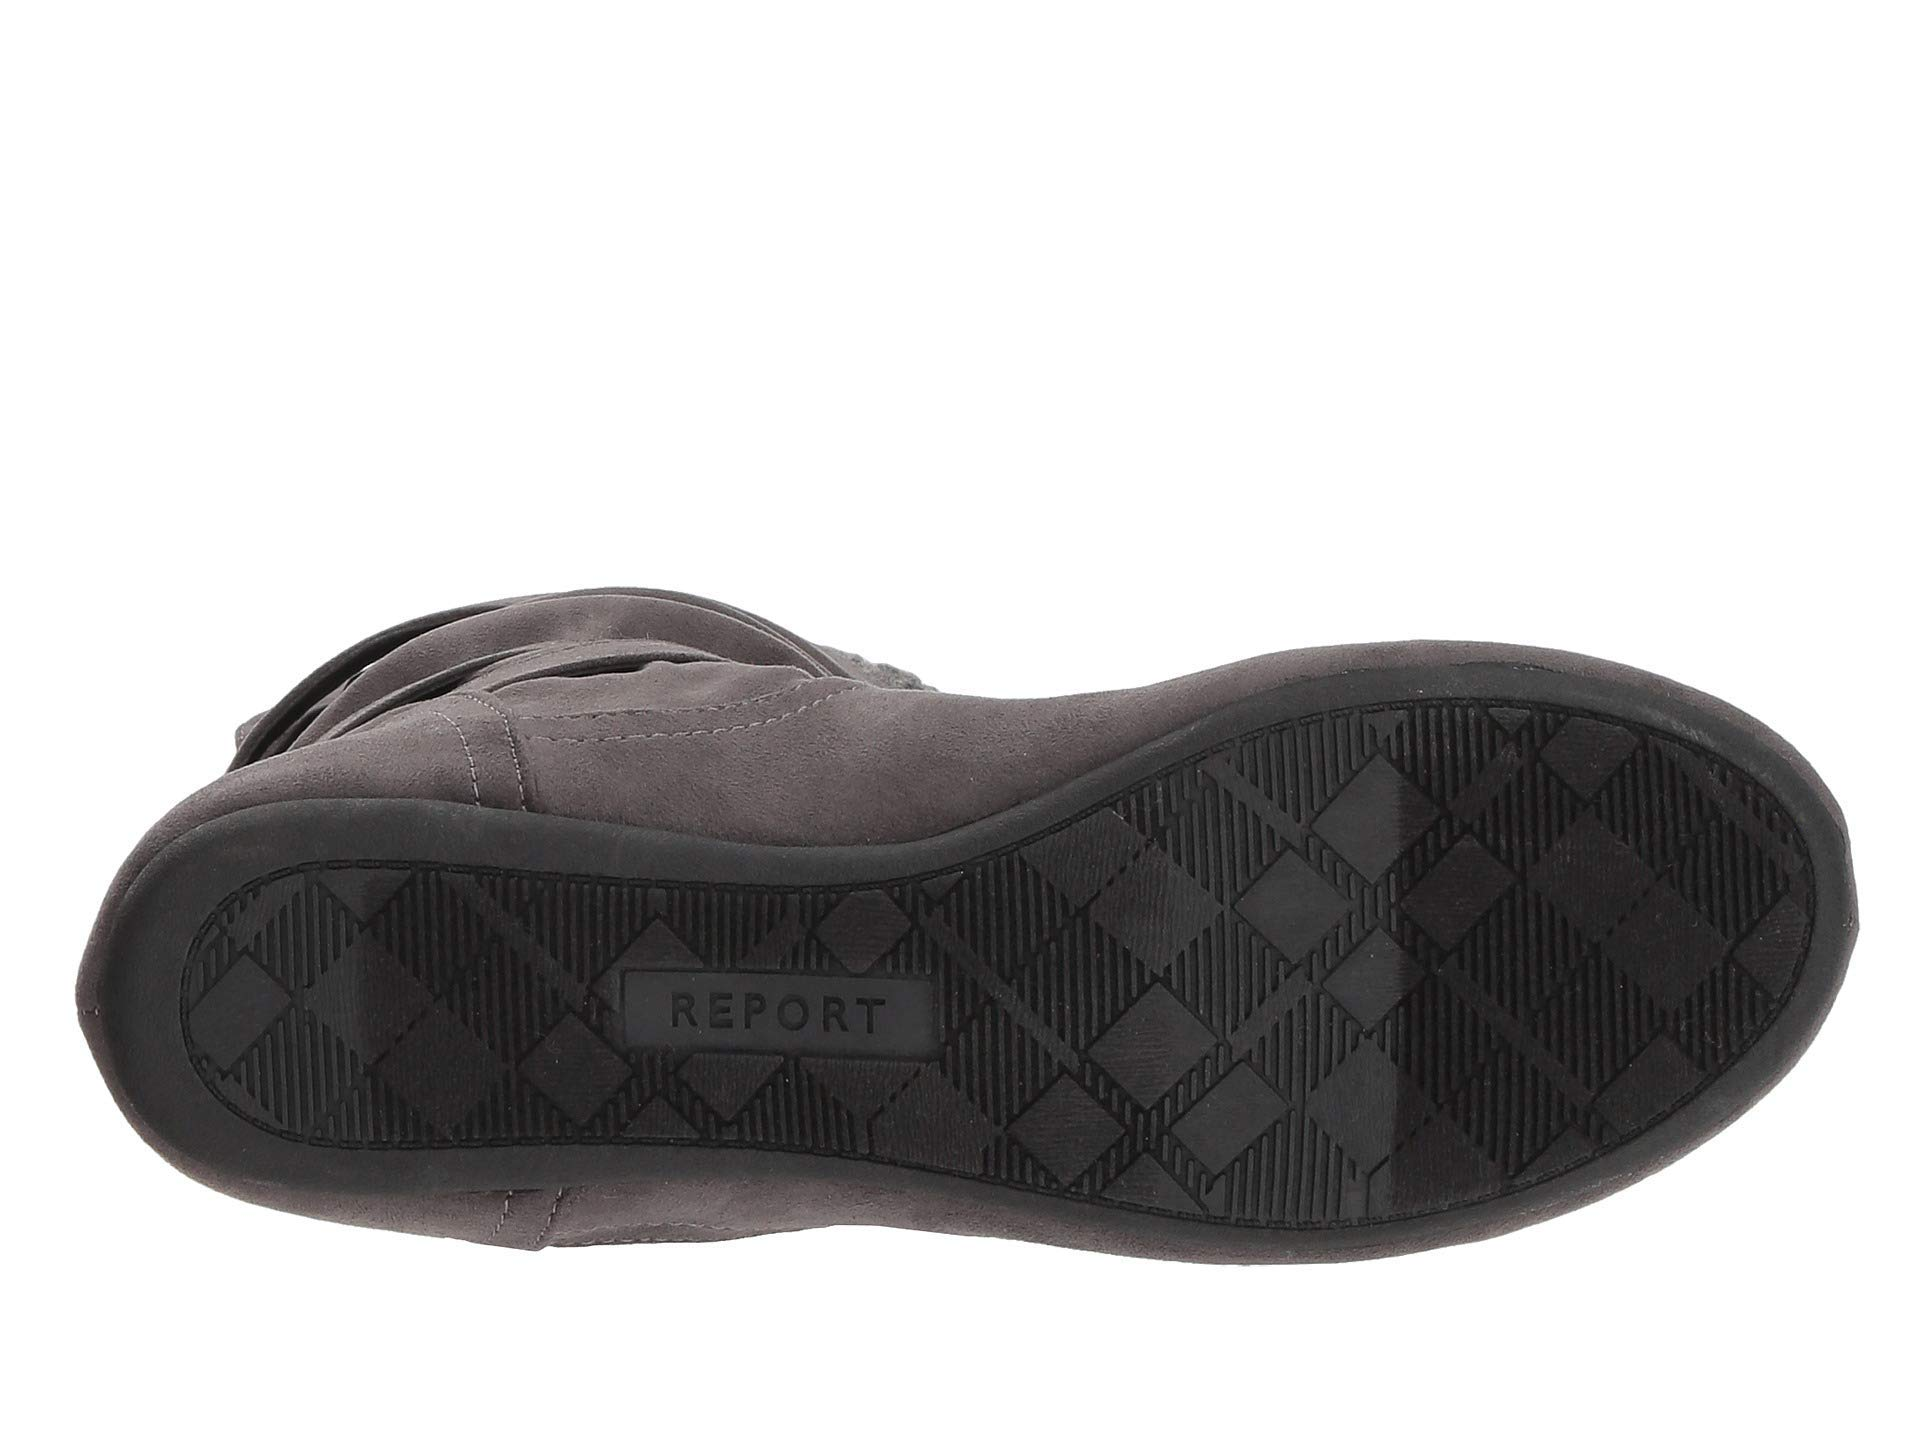line: (1075, 862, 1380, 1193)
quad: (1075, 862, 1380, 1193)
